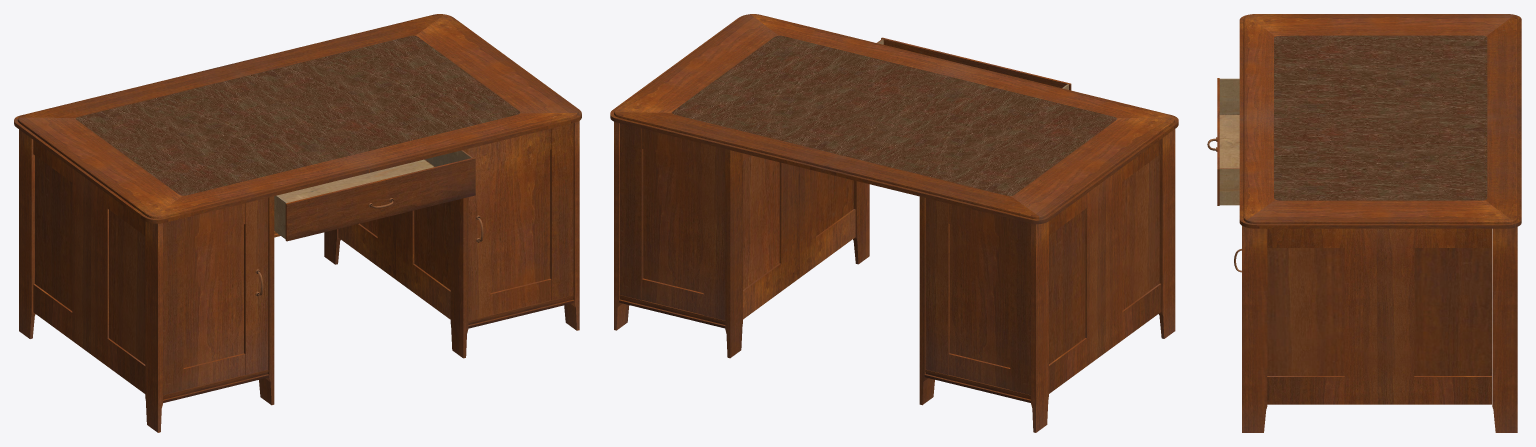
File: table_old.FBX
The picture shows the model from 3 angles, left to right: view 1: azimuth 30°, elevation 25°; view 2: azimuth 150°, elevation 25°; view 3: azimuth 270°, elevation 25°; orthographic projection.
Parts seen in each view (by area): view 1: table_old, table_old_part; view 2: table_old, table_old_part; view 3: table_old, table_old_part.
Boxes of the visible parts, bbox=[...] form: table_old: bbox=[14, 14, 581, 432]; table_old_part: bbox=[274, 150, 475, 241]; table_old: bbox=[610, 14, 1178, 432]; table_old_part: bbox=[877, 37, 1071, 90]; table_old: bbox=[1234, 14, 1521, 432]; table_old_part: bbox=[1207, 78, 1239, 205].
Bounding box in the file's own units: 216 × 102 × 136.
